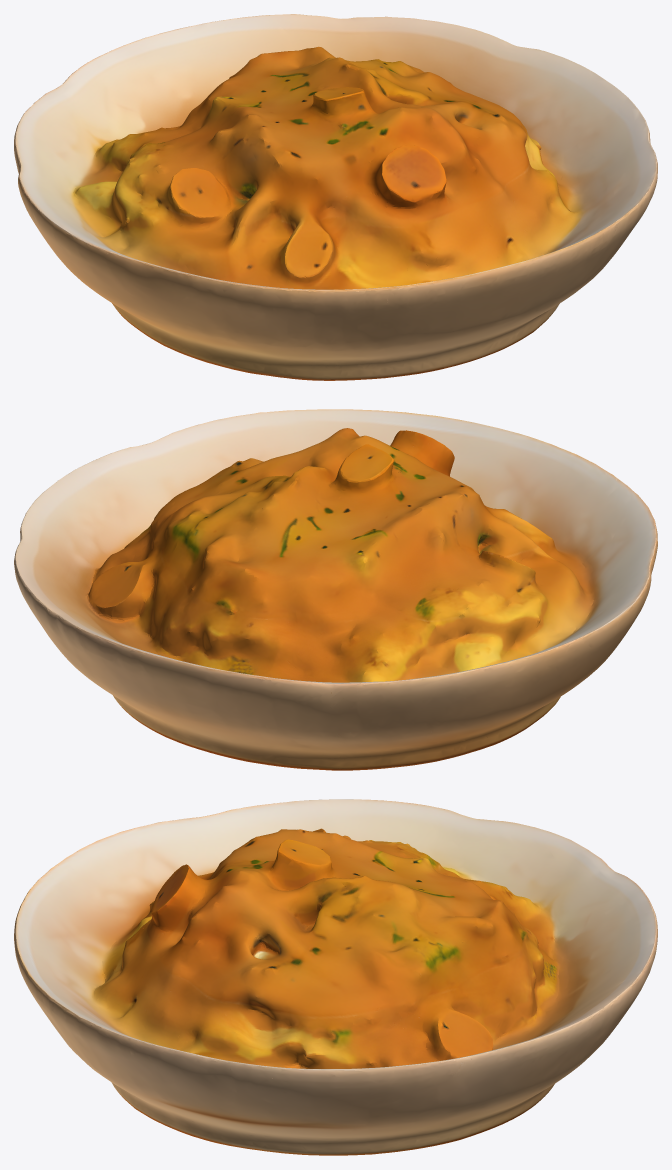
File: item_spaghetti_pasta_with_sausage_in_creamy_sauce.glb
3 views of the same model, one above another, from view 1: azimuth 30°, elevation 25°; view 2: azimuth 150°, elevation 25°; view 3: azimuth 270°, elevation 25° (orthographic).
Visible parts, largest first — view 1: Object_2; view 2: Object_2; view 3: Object_2.
Boxes of the visible parts, x1,y1,x2,y2 form: Object_2: (14,14,657,380); Object_2: (14,409,657,770); Object_2: (14,799,657,1155).
Size of the model in its own units: 1.9 by 0.6984 by 1.89.
Materials: 1 (1 with a texture image).
